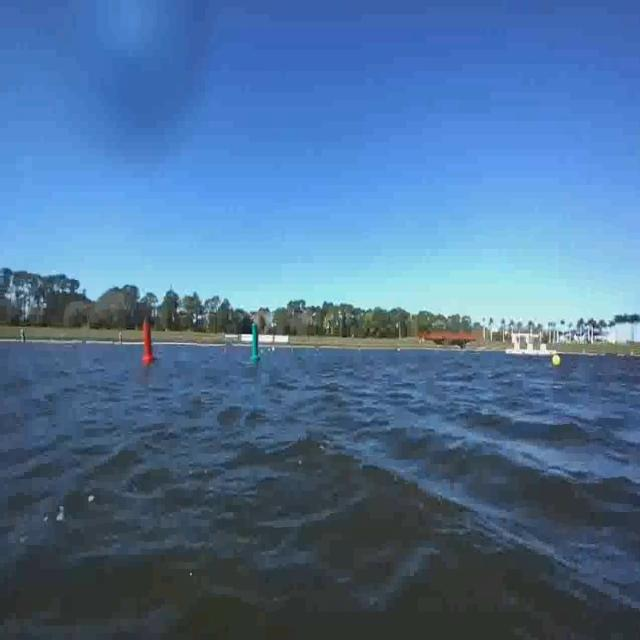green-column-buoy: (248, 318, 261, 372)
red-column-buoy: (141, 308, 153, 368)
